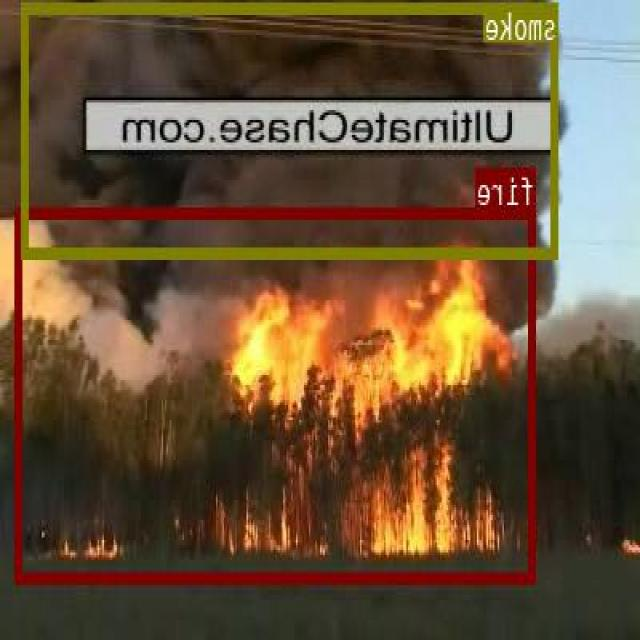fire: (16, 207, 536, 582)
smoke: (23, 1, 560, 257)
